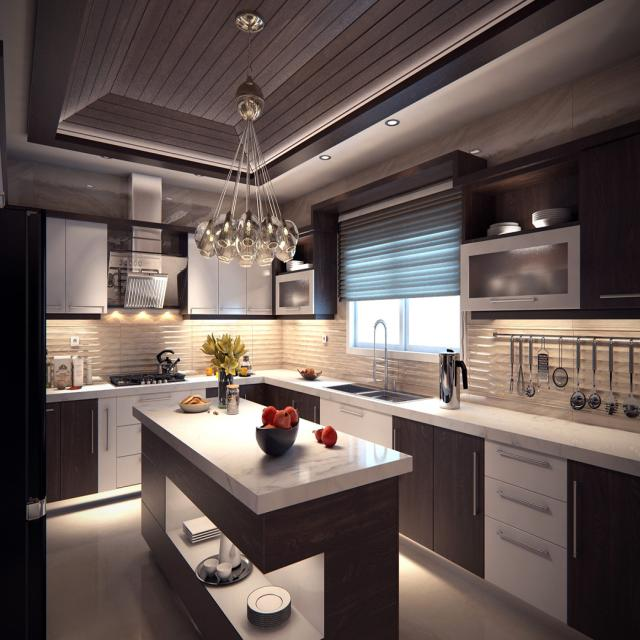Appliance_Microwave: (460, 225, 580, 311), (273, 270, 315, 317)
Appliance_Sink: (322, 319, 427, 405)
Appliance_Stove: (107, 370, 186, 388)
Cabinet_Inset: (241, 385, 640, 640), (48, 386, 171, 502), (578, 132, 640, 318), (189, 245, 273, 313), (48, 218, 108, 312)
Countertop_Marble: (47, 375, 414, 515), (233, 370, 640, 478)
